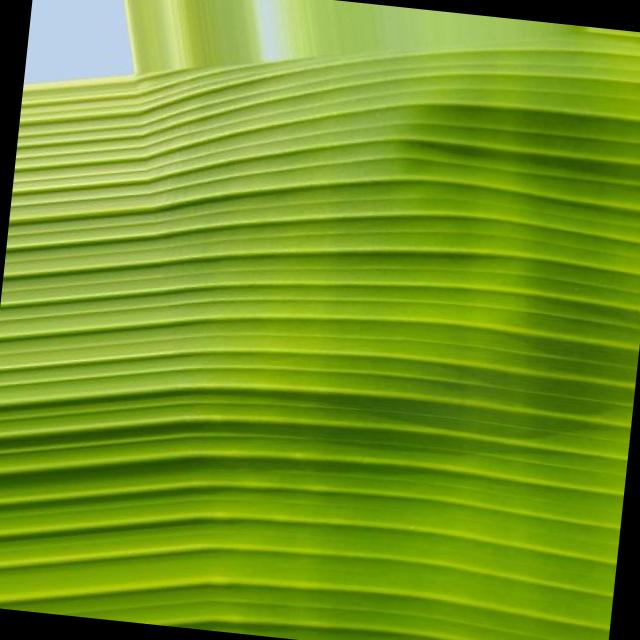Banana_Healthy: (16, 67, 640, 640)
